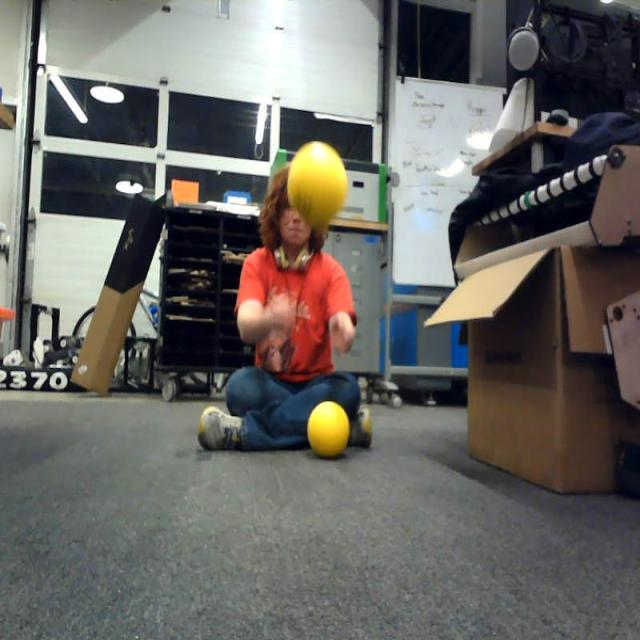Fuel: (287, 142, 347, 228), (307, 401, 350, 458)
